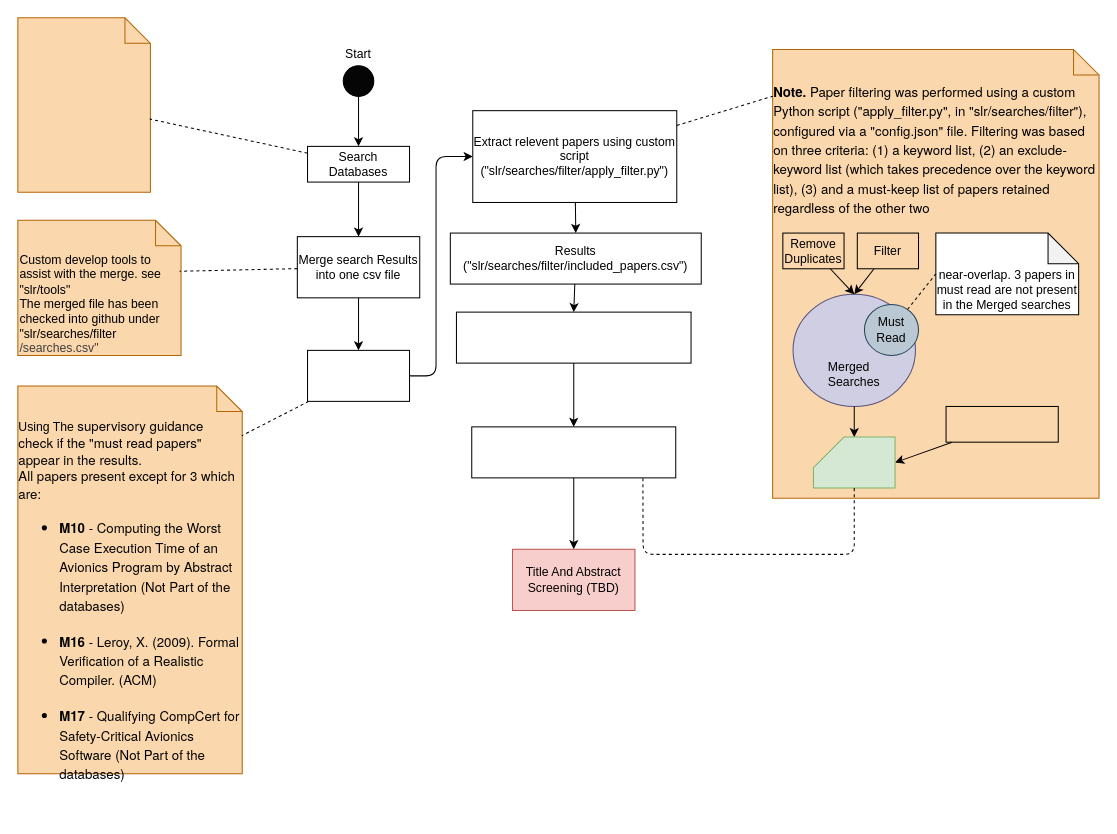
Some shapes in this 1117 by 834 pixel diagram are drawn without their labels. The shapes that lost their labels are listed below. From the top down, each one's centre as x and y in pixels, then its label:
At point 83,104: "Databases : ACMDigitalLib IEEEXplorer ScienceDirect Scopus SpringerLink".
At point 573,337: "Manaully Add M10, M16 and M17".
At point 358,375: "Validate the searches".
At point 1001,423: "Manual Addition of M10, M16 and M17".
At point 573,452: "Final Results slr/searches/filter/final.csv".
At point 853,462: "Results".
